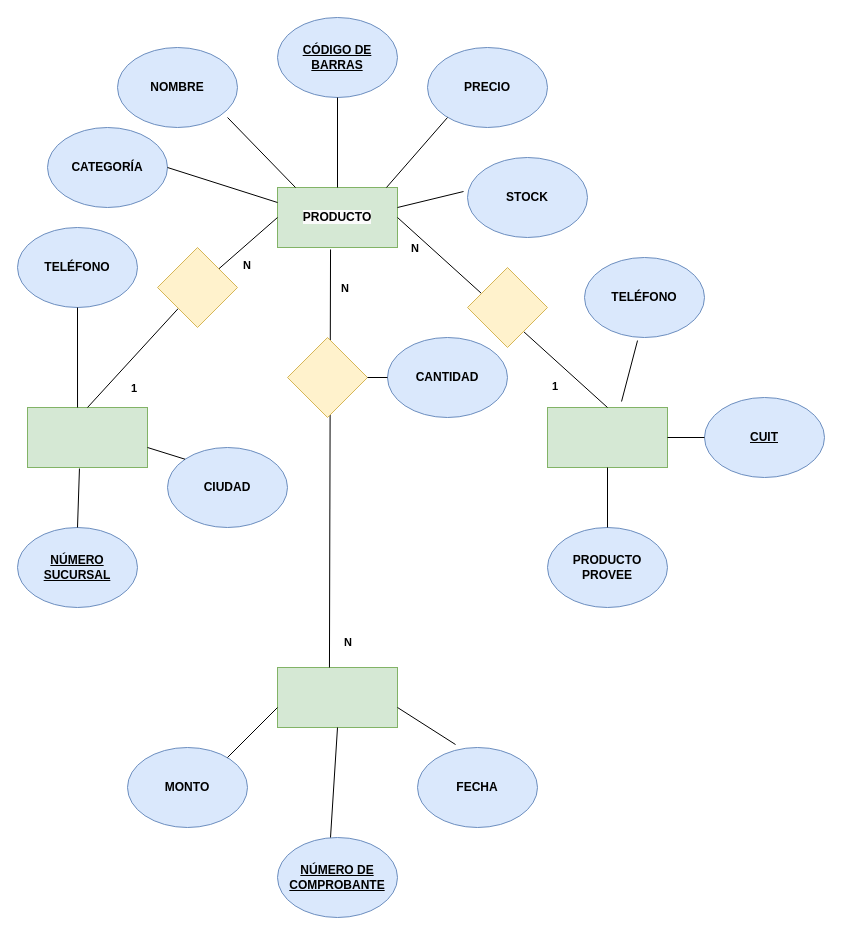
The diagram is 842 pixels wide and 935 high, and some of its shapes have lost their labels. The shapes that lost their labels are listed below. From the top down, each one's centre as x and y in pixels, then its label:
(x=197, y=287): TIENE
(x=507, y=307): PROVEE
(x=327, y=377): VENDIÓ
(x=87, y=437): SUCURSAL
(x=607, y=437): PROVEEDOR
(x=337, y=697): VENTAS
